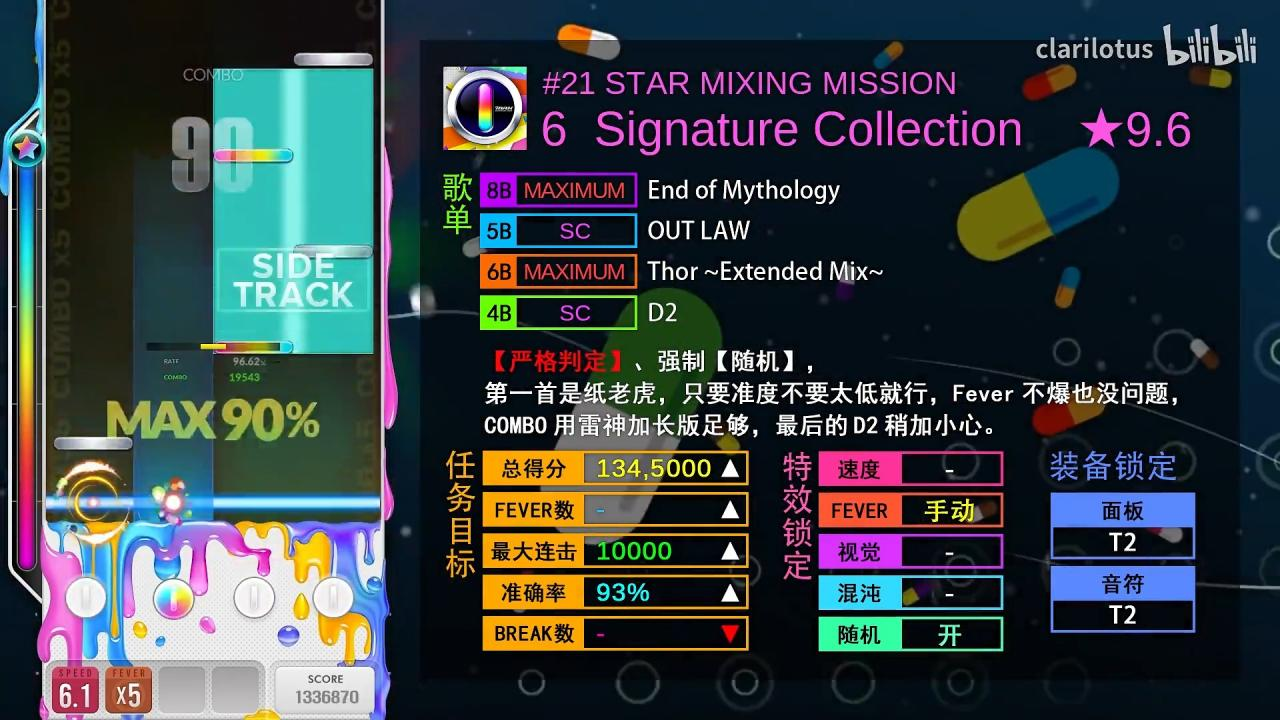note: (292, 244, 373, 259), (294, 52, 373, 67), (213, 340, 293, 354), (214, 149, 294, 163), (54, 437, 132, 450)
side-end: (213, 68, 374, 82)
side-start: (214, 340, 374, 356)
